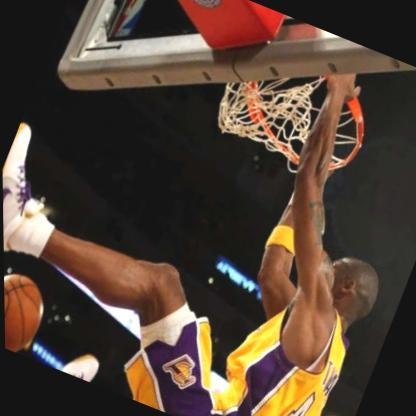basketball: (3, 262, 54, 357)
